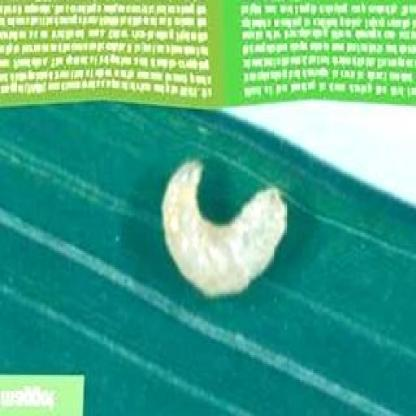whorl-maggot: (154, 156, 292, 303)
